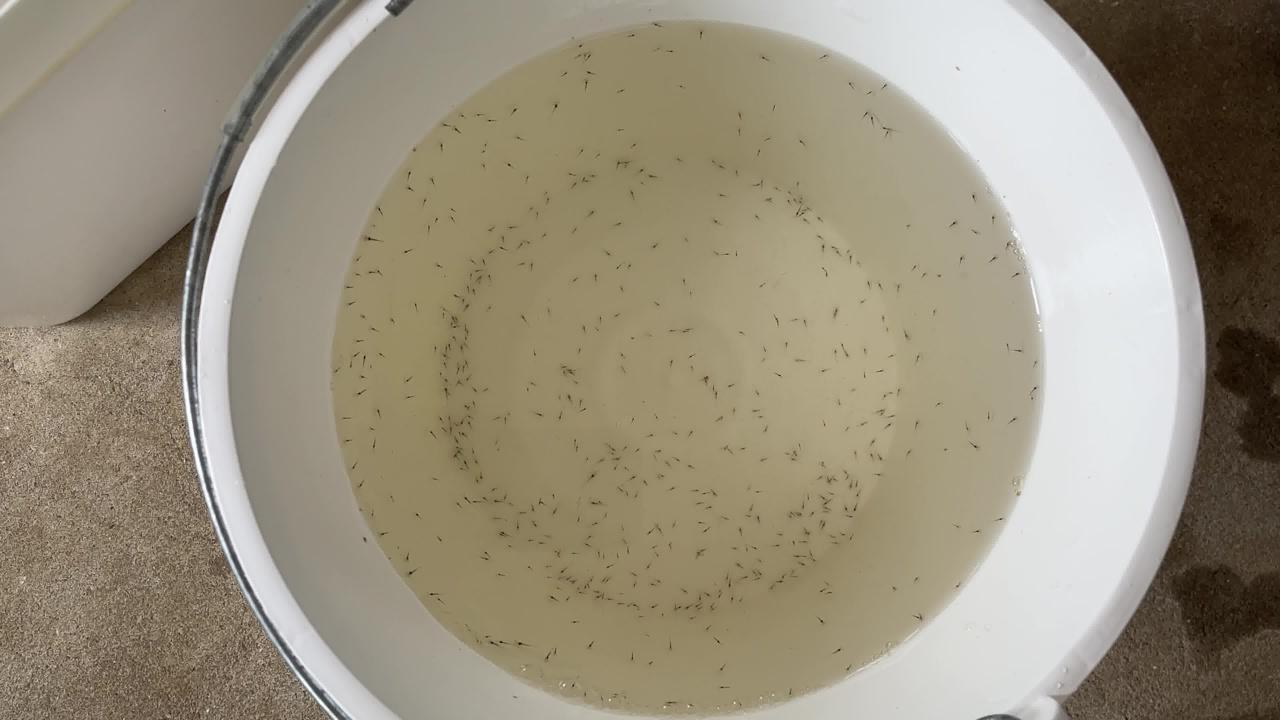shrimp: (770, 317, 782, 325), (732, 331, 744, 339), (755, 344, 767, 352), (778, 344, 790, 352), (789, 317, 801, 325), (801, 320, 813, 328), (765, 586, 777, 594), (772, 581, 784, 589), (778, 573, 790, 581), (790, 577, 802, 585), (782, 567, 794, 575), (794, 563, 806, 571), (806, 559, 818, 567), (807, 551, 819, 559), (791, 556, 803, 564), (787, 541, 799, 549), (798, 540, 810, 548), (799, 530, 811, 538), (779, 534, 791, 542), (770, 543, 782, 551), (812, 522, 824, 530), (815, 522, 827, 530), (804, 511, 816, 519), (820, 532, 832, 540), (828, 539, 840, 547), (833, 531, 845, 539), (845, 536, 857, 544), (843, 513, 855, 521), (850, 503, 862, 511), (855, 490, 867, 498), (848, 481, 860, 489), (844, 486, 856, 494), (839, 501, 851, 509), (839, 473, 851, 481), (830, 477, 842, 485), (826, 473, 838, 481), (823, 478, 835, 486), (818, 476, 830, 484), (813, 474, 825, 482), (815, 464, 827, 472), (827, 488, 839, 496), (810, 494, 822, 502), (819, 497, 831, 505), (820, 501, 832, 509), (820, 506, 832, 514), (801, 493, 813, 501), (794, 499, 806, 507), (792, 509, 804, 517), (784, 508, 796, 516), (782, 514, 794, 522), (752, 542, 764, 550), (741, 546, 753, 554), (730, 547, 742, 555), (754, 556, 766, 564), (755, 571, 767, 579), (748, 569, 760, 577), (750, 575, 762, 583), (739, 574, 751, 582), (734, 595, 746, 603), (725, 596, 737, 604), (724, 581, 736, 589), (718, 573, 730, 581), (731, 562, 743, 570), (734, 531, 746, 539), (753, 515, 765, 523), (739, 513, 751, 521), (747, 507, 759, 515), (794, 443, 806, 451), (787, 448, 799, 456), (779, 448, 791, 456), (786, 455, 798, 463), (759, 455, 771, 463), (750, 488, 762, 496), (720, 514, 732, 522), (703, 506, 715, 514), (691, 502, 703, 510), (707, 491, 719, 499), (698, 488, 710, 496), (686, 488, 698, 496), (669, 487, 681, 495), (692, 518, 704, 526), (697, 527, 709, 535), (697, 545, 709, 553), (691, 550, 703, 558), (714, 595, 726, 603), (713, 580, 725, 588), (729, 448, 741, 456), (717, 444, 729, 452), (740, 448, 752, 456), (760, 428, 772, 436), (871, 473, 883, 481), (877, 455, 889, 463), (848, 452, 860, 460), (866, 453, 878, 461), (879, 424, 891, 432), (888, 413, 900, 421), (869, 406, 881, 414), (878, 410, 890, 418), (856, 421, 868, 429), (866, 440, 878, 448), (841, 426, 853, 434), (833, 400, 845, 408), (820, 422, 832, 430), (770, 372, 782, 380), (755, 357, 767, 365), (752, 388, 764, 396), (749, 408, 761, 416), (753, 413, 765, 421), (728, 406, 740, 414), (724, 385, 736, 393), (715, 416, 727, 424), (713, 395, 725, 403), (708, 387, 720, 395), (699, 374, 711, 382), (686, 366, 698, 374), (687, 352, 699, 360), (676, 330, 688, 338), (679, 324, 691, 332), (665, 326, 677, 334), (663, 362, 675, 370), (668, 428, 680, 436), (683, 428, 695, 436), (682, 464, 694, 472), (669, 455, 681, 463), (697, 587, 709, 595), (706, 601, 718, 609), (705, 609, 717, 617), (695, 607, 707, 615), (693, 601, 705, 609), (684, 606, 696, 614), (685, 612, 697, 620), (676, 604, 688, 612), (668, 604, 680, 612), (680, 589, 692, 597), (645, 606, 657, 614), (655, 614, 667, 622), (662, 542, 674, 550), (667, 523, 679, 531), (648, 575, 660, 583), (645, 582, 657, 590), (643, 562, 655, 570), (650, 554, 662, 562), (646, 532, 658, 540), (654, 528, 666, 536), (653, 474, 665, 482), (637, 484, 649, 492), (657, 461, 669, 469), (650, 450, 662, 458), (629, 495, 641, 503), (616, 488, 628, 496), (625, 477, 637, 485), (628, 584, 640, 592), (625, 569, 637, 577), (622, 551, 634, 559), (617, 538, 629, 546), (616, 527, 628, 535), (612, 553, 624, 561), (621, 605, 633, 613), (612, 602, 624, 610), (605, 597, 617, 605), (598, 597, 610, 605), (593, 596, 605, 604), (589, 591, 601, 599), (630, 601, 642, 609), (634, 616, 646, 624), (640, 632, 652, 640), (663, 646, 675, 654), (702, 627, 714, 635), (711, 640, 723, 648), (717, 669, 729, 677), (721, 687, 733, 695), (825, 593, 837, 601), (814, 587, 826, 595), (821, 580, 833, 588), (812, 618, 824, 626), (832, 651, 844, 659), (841, 665, 853, 673), (783, 690, 795, 698), (664, 699, 676, 707), (518, 638, 530, 646), (500, 640, 512, 648), (485, 640, 497, 648), (480, 632, 492, 640), (536, 654, 548, 662), (549, 646, 561, 654), (582, 641, 594, 649), (632, 654, 644, 662), (594, 695, 606, 703), (580, 692, 592, 700), (566, 683, 578, 691), (568, 625, 580, 633), (545, 597, 557, 605), (437, 599, 449, 607), (426, 591, 438, 599), (605, 577, 617, 585), (600, 575, 612, 583), (586, 574, 598, 582), (584, 584, 596, 592), (574, 586, 586, 594), (560, 598, 572, 606), (550, 588, 562, 596), (600, 560, 612, 568), (600, 514, 612, 522), (640, 433, 652, 441), (633, 447, 645, 455), (618, 470, 630, 478), (587, 473, 599, 481), (587, 500, 599, 508), (594, 498, 606, 506), (588, 518, 600, 526), (582, 533, 594, 541), (579, 542, 591, 550), (589, 551, 601, 559), (572, 551, 584, 559), (557, 568, 569, 576), (561, 575, 573, 583), (565, 578, 577, 586), (541, 575, 553, 583), (538, 561, 550, 569), (527, 564, 539, 572), (491, 574, 503, 582), (477, 560, 489, 568), (484, 551, 496, 559), (433, 538, 445, 546), (407, 515, 419, 523), (387, 496, 399, 504), (398, 554, 410, 562), (404, 572, 416, 580), (534, 502, 546, 510), (538, 500, 550, 508), (527, 506, 539, 514), (549, 550, 561, 558), (540, 534, 552, 542), (531, 543, 543, 551), (524, 536, 536, 544), (494, 531, 506, 539), (499, 528, 511, 536), (510, 521, 522, 529), (514, 510, 526, 518), (529, 521, 541, 529), (549, 508, 561, 516), (591, 457, 603, 465), (607, 443, 619, 451), (605, 451, 617, 459), (611, 457, 623, 465), (619, 447, 631, 455), (857, 373, 869, 381), (816, 267, 828, 275), (795, 213, 807, 221), (800, 220, 812, 228), (800, 206, 812, 214), (815, 216, 827, 224), (814, 232, 826, 240), (790, 210, 802, 218), (795, 200, 807, 208), (788, 197, 800, 205), (783, 205, 795, 213), (783, 191, 795, 199), (790, 184, 802, 192), (794, 195, 806, 203), (817, 241, 829, 249), (830, 306, 842, 314), (841, 351, 853, 359), (834, 339, 846, 347), (830, 349, 842, 357), (817, 369, 829, 377), (792, 358, 804, 366), (450, 502, 462, 510), (458, 497, 470, 505), (471, 502, 483, 510), (492, 517, 504, 525), (505, 504, 517, 512), (487, 501, 499, 509), (498, 496, 510, 504), (477, 494, 489, 502), (486, 487, 498, 495), (572, 448, 584, 456), (569, 439, 581, 447), (583, 458, 595, 466), (570, 514, 582, 522), (547, 493, 559, 501), (573, 406, 585, 414), (554, 415, 566, 423), (532, 413, 544, 421), (478, 469, 490, 477), (473, 476, 485, 484), (432, 477, 444, 485), (374, 533, 386, 541), (355, 482, 367, 490), (350, 463, 362, 471), (342, 440, 354, 448), (342, 419, 354, 427), (367, 445, 379, 453), (367, 504, 379, 512), (882, 583, 894, 591), (910, 575, 922, 583), (910, 615, 922, 623), (915, 612, 927, 620), (955, 588, 967, 596), (995, 517, 1007, 525), (976, 525, 988, 533), (948, 522, 960, 530), (447, 453, 459, 461), (451, 448, 463, 456), (453, 444, 465, 452), (450, 464, 462, 472), (459, 460, 471, 468), (469, 458, 481, 466), (465, 448, 477, 456), (557, 374, 569, 382), (554, 360, 566, 368), (563, 366, 575, 374), (566, 373, 578, 381), (563, 398, 575, 406), (556, 393, 568, 401), (520, 389, 532, 397), (526, 381, 538, 389), (498, 417, 510, 425), (492, 415, 504, 423), (461, 429, 473, 437), (452, 429, 464, 437), (424, 432, 436, 440), (437, 428, 449, 436), (465, 414, 477, 422), (433, 416, 445, 424), (452, 419, 464, 427), (445, 415, 457, 423), (369, 429, 381, 437), (371, 411, 383, 419), (616, 351, 628, 359), (616, 367, 628, 375), (624, 415, 636, 423), (652, 413, 664, 421), (628, 338, 640, 346), (609, 313, 621, 321), (592, 316, 604, 324), (592, 324, 604, 332), (544, 306, 556, 314), (521, 317, 533, 325), (528, 348, 540, 356), (574, 327, 586, 335), (572, 347, 584, 355), (398, 377, 410, 385), (405, 395, 417, 403), (354, 389, 366, 397), (333, 366, 345, 374), (365, 237, 377, 245), (354, 254, 366, 262), (365, 271, 377, 279), (375, 271, 387, 279), (411, 304, 423, 312), (440, 393, 452, 401), (444, 390, 456, 398), (355, 374, 367, 382), (342, 362, 354, 370), (375, 352, 387, 360), (386, 318, 398, 326), (345, 299, 357, 307), (353, 272, 365, 280), (342, 283, 354, 291), (356, 311, 368, 319), (365, 327, 377, 335), (360, 356, 372, 364), (350, 350, 362, 358), (353, 339, 365, 347), (457, 403, 469, 411), (468, 397, 480, 405), (478, 386, 490, 394), (467, 385, 479, 393), (432, 372, 444, 380), (437, 377, 449, 385), (463, 376, 475, 384), (462, 361, 474, 369), (449, 370, 461, 378), (455, 366, 467, 374), (450, 382, 462, 390), (456, 382, 468, 390), (425, 346, 437, 354), (436, 364, 448, 372), (438, 355, 450, 363), (438, 347, 450, 355), (442, 345, 454, 353), (459, 342, 471, 350), (457, 344, 469, 352), (460, 336, 472, 344), (446, 338, 458, 346), (460, 327, 472, 335), (451, 326, 463, 334), (443, 322, 455, 330), (437, 316, 449, 324), (437, 308, 449, 316), (443, 315, 455, 323), (449, 315, 461, 323), (432, 262, 444, 270), (403, 246, 415, 254), (372, 207, 384, 215), (401, 170, 413, 178), (422, 177, 434, 185), (448, 205, 460, 213), (445, 215, 457, 223), (401, 187, 413, 195), (416, 200, 428, 208), (429, 214, 441, 222), (422, 224, 434, 232), (464, 256, 476, 264), (476, 165, 488, 173), (506, 162, 518, 170), (523, 263, 535, 271), (513, 263, 525, 271), (483, 307, 495, 315), (460, 307, 472, 315), (482, 274, 494, 282), (447, 295, 459, 303), (470, 290, 482, 298), (456, 297, 468, 305), (470, 282, 482, 290), (470, 268, 482, 276), (463, 275, 475, 283), (460, 288, 472, 296), (476, 261, 488, 269), (484, 249, 496, 257), (498, 246, 510, 254), (521, 239, 533, 247), (511, 247, 523, 255), (503, 224, 515, 232), (482, 225, 494, 233), (487, 221, 499, 229), (493, 235, 505, 243), (564, 278, 576, 286), (588, 274, 600, 282), (988, 254, 1000, 262), (1009, 273, 1021, 281), (1013, 347, 1025, 355), (1001, 343, 1013, 351), (1029, 359, 1041, 367), (1029, 383, 1041, 391), (1025, 397, 1037, 405), (1008, 417, 1020, 425), (967, 444, 979, 452), (983, 414, 995, 422), (962, 425, 974, 433), (932, 399, 944, 407), (912, 419, 924, 427), (904, 449, 916, 457), (431, 143, 443, 151), (436, 123, 448, 131), (453, 129, 465, 137), (479, 147, 491, 155), (511, 134, 523, 142), (509, 106, 521, 114), (483, 119, 495, 127), (455, 114, 467, 122), (473, 113, 485, 121), (571, 54, 583, 62), (578, 52, 590, 60), (583, 56, 595, 64), (574, 45, 586, 53), (559, 74, 571, 82), (584, 70, 596, 78), (581, 79, 593, 87), (549, 103, 561, 111), (625, 32, 637, 40), (698, 28, 710, 36), (648, 21, 660, 29), (660, 47, 672, 55), (651, 47, 663, 55), (673, 83, 685, 91), (609, 263, 621, 271), (601, 251, 613, 259), (583, 208, 595, 216), (609, 160, 621, 168), (619, 158, 631, 166), (619, 164, 631, 172), (647, 172, 659, 180), (637, 168, 649, 176), (628, 189, 640, 197), (611, 220, 623, 228), (623, 263, 635, 271), (650, 300, 662, 308), (617, 285, 629, 293), (540, 233, 552, 241), (523, 178, 535, 186), (562, 170, 574, 178), (613, 122, 625, 130), (615, 86, 627, 94), (625, 142, 637, 150), (592, 154, 604, 162), (585, 173, 597, 181), (573, 150, 585, 158), (576, 171, 588, 179), (579, 180, 591, 188), (570, 181, 582, 189), (538, 188, 550, 196), (540, 196, 552, 204), (525, 205, 537, 213), (532, 209, 544, 217), (567, 226, 579, 234), (891, 389, 903, 397), (950, 262, 962, 270), (986, 214, 998, 222), (968, 197, 980, 205), (971, 230, 983, 238), (949, 220, 961, 228), (880, 125, 892, 133), (878, 82, 890, 90), (864, 116, 876, 124), (863, 92, 875, 100), (859, 115, 871, 123), (846, 80, 858, 88), (814, 52, 826, 60), (758, 57, 770, 65), (675, 157, 687, 165), (682, 277, 694, 285), (646, 244, 658, 252), (915, 353, 927, 361), (873, 367, 885, 375), (825, 243, 837, 251), (829, 251, 841, 259), (839, 245, 851, 253), (853, 258, 865, 266), (846, 252, 858, 260), (770, 182, 782, 190), (792, 138, 804, 146), (769, 104, 781, 112), (735, 114, 747, 122), (765, 137, 777, 145), (734, 130, 746, 138), (751, 149, 763, 157), (757, 176, 769, 184), (749, 180, 761, 188), (760, 198, 772, 206), (750, 214, 762, 222), (705, 157, 717, 165), (714, 163, 726, 171), (730, 169, 742, 177), (721, 252, 733, 260), (731, 249, 743, 257), (716, 192, 728, 200), (711, 217, 723, 225), (710, 248, 722, 256), (756, 282, 768, 290), (884, 351, 896, 359), (930, 273, 942, 281), (865, 280, 877, 288), (890, 283, 902, 291), (874, 283, 886, 291), (859, 299, 871, 307), (900, 333, 912, 341), (909, 263, 921, 271), (924, 305, 936, 313), (920, 271, 932, 279), (883, 327, 895, 335), (877, 313, 889, 321), (860, 346, 872, 354), (683, 236, 695, 244)
